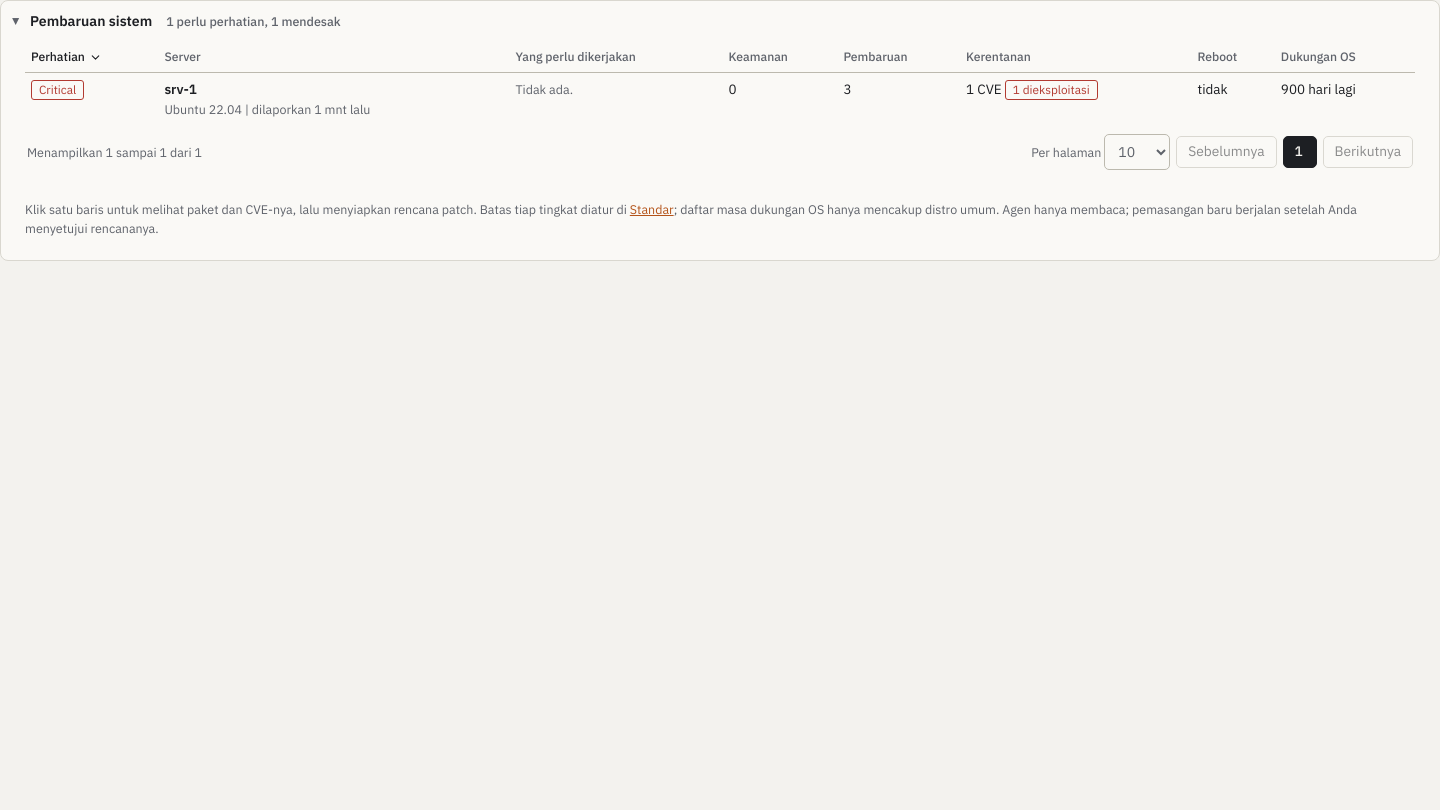
Pembaruan sistem › klik baris membuka rincian: paket keamanan dengan CVE (ditautkan), yang dieksploitasi ditandai, dan sumber yang tidak terjangkau dijelaskan
Click the text "srv-1".
click(720, 98)  # box x1=25 y1=73 x2=1415 y2=124
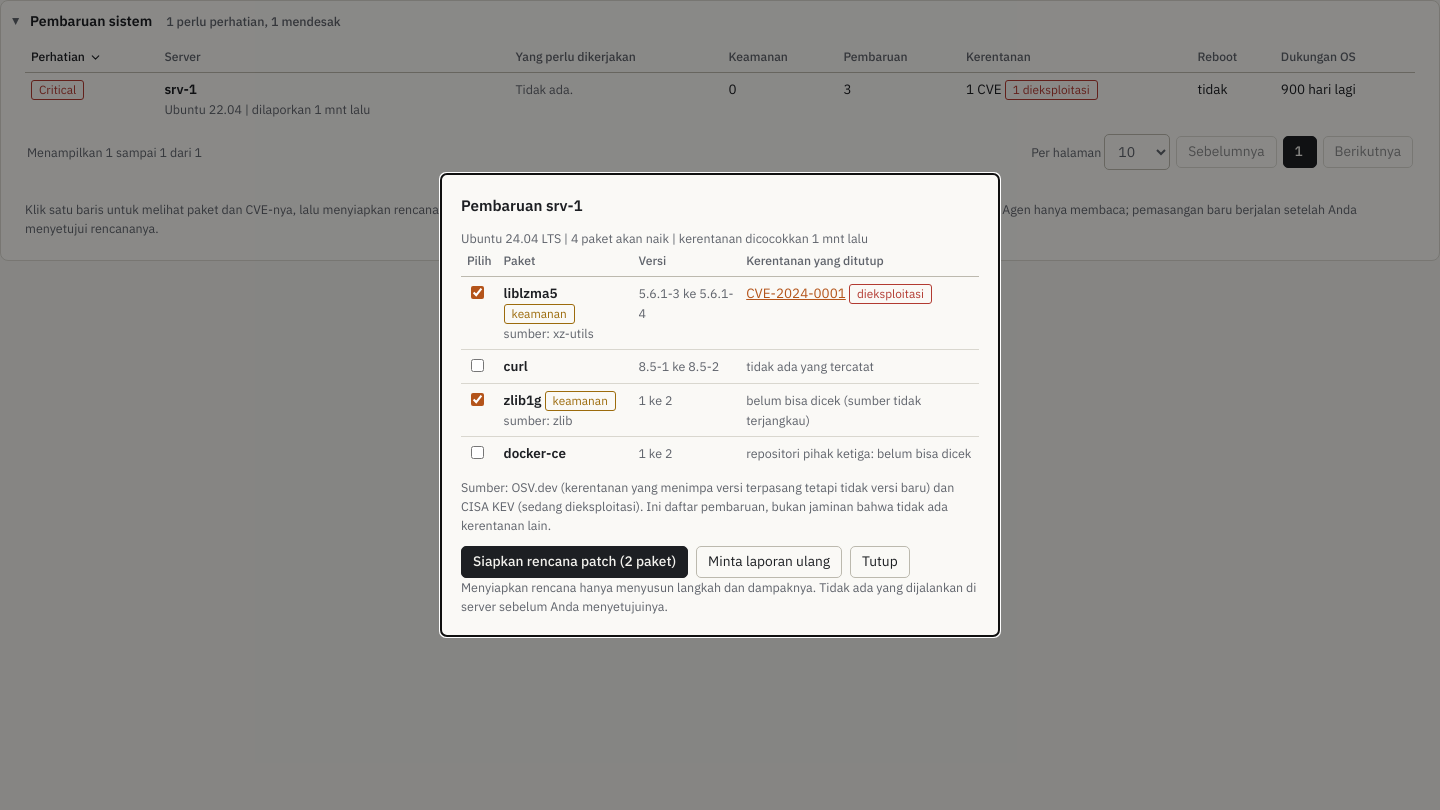
Now the text "dieksploitasi" is shown once, box x1=849 y1=284 x2=932 y2=304
Now the text "sumber: xz-utils" is shown, box x1=504 y1=325 x2=594 y2=341
Now the text "belum bisa dicek (sumber tidak terjangkau)" is shown, box x1=746 y1=392 x2=921 y2=428
